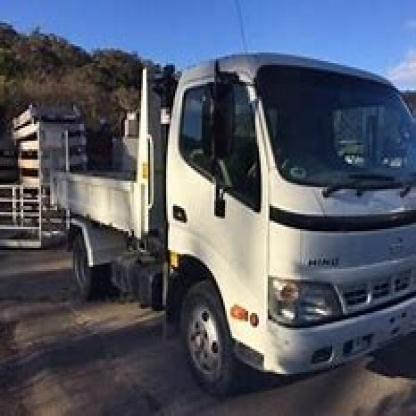dump_truck: (52, 42, 414, 397)
